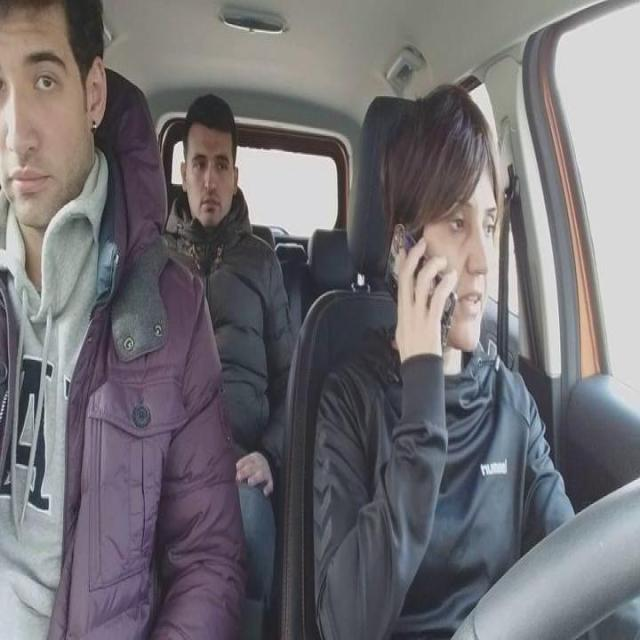phone: (384, 224, 456, 351)
